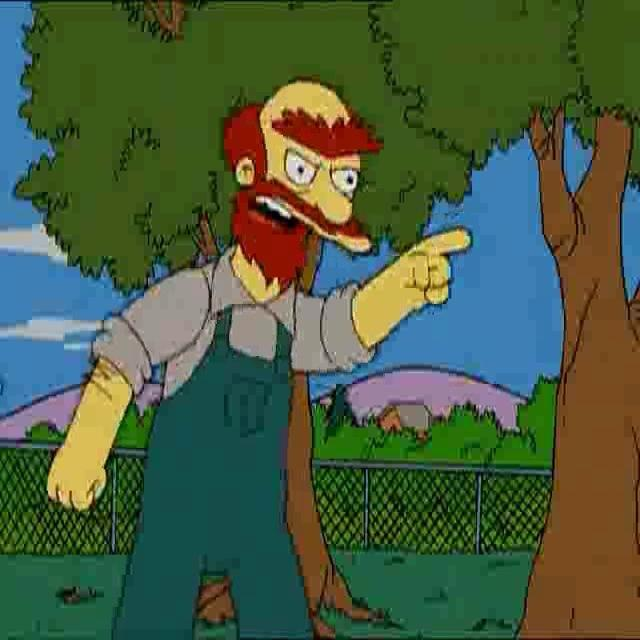Groundskeeper Willie: (218, 74, 380, 294)
